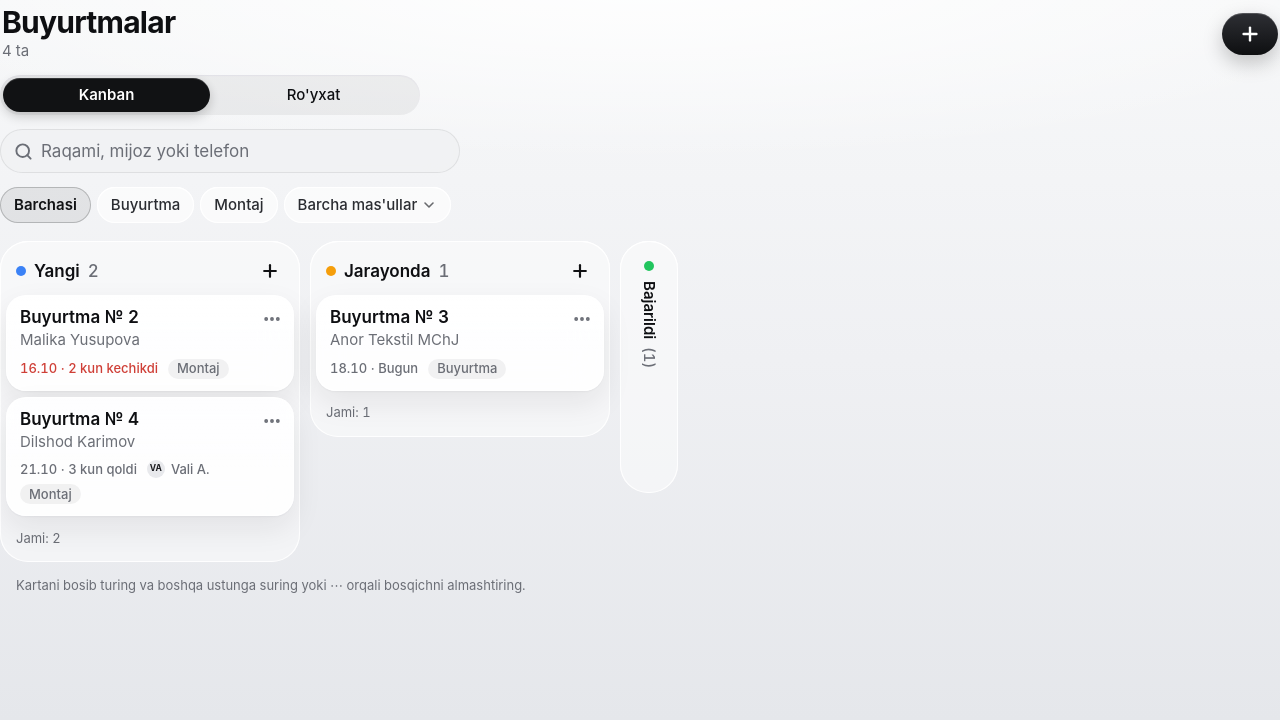
Test: the type chip, the search and the assignee narrow every column
This screenshot has width=1280, height=720.
Click the radio button labelled "Montaj": (239, 205) [200,187,278,223]
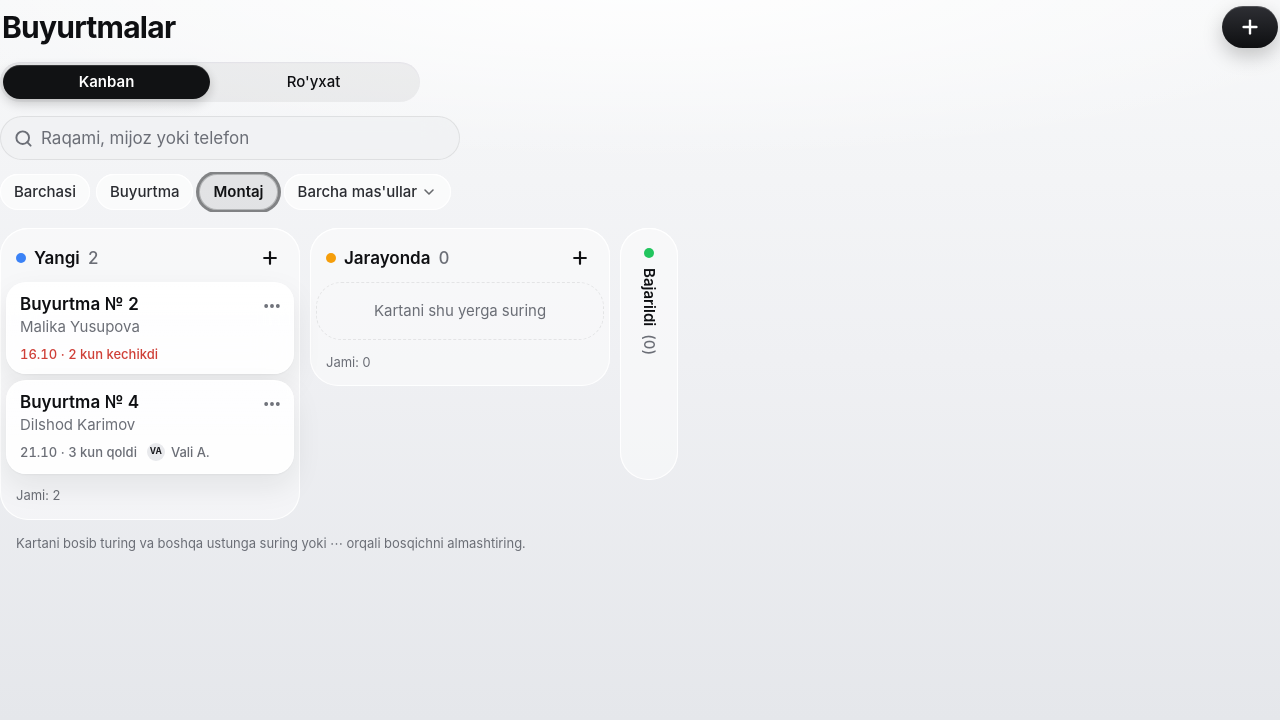
Result: the text "Kartani shu yerga suring" is shown at [316,282,604,340]
Result: the text "4 ta" is gone
Click the radio button labelled "Barchasi": (45, 192) [0,174,90,210]
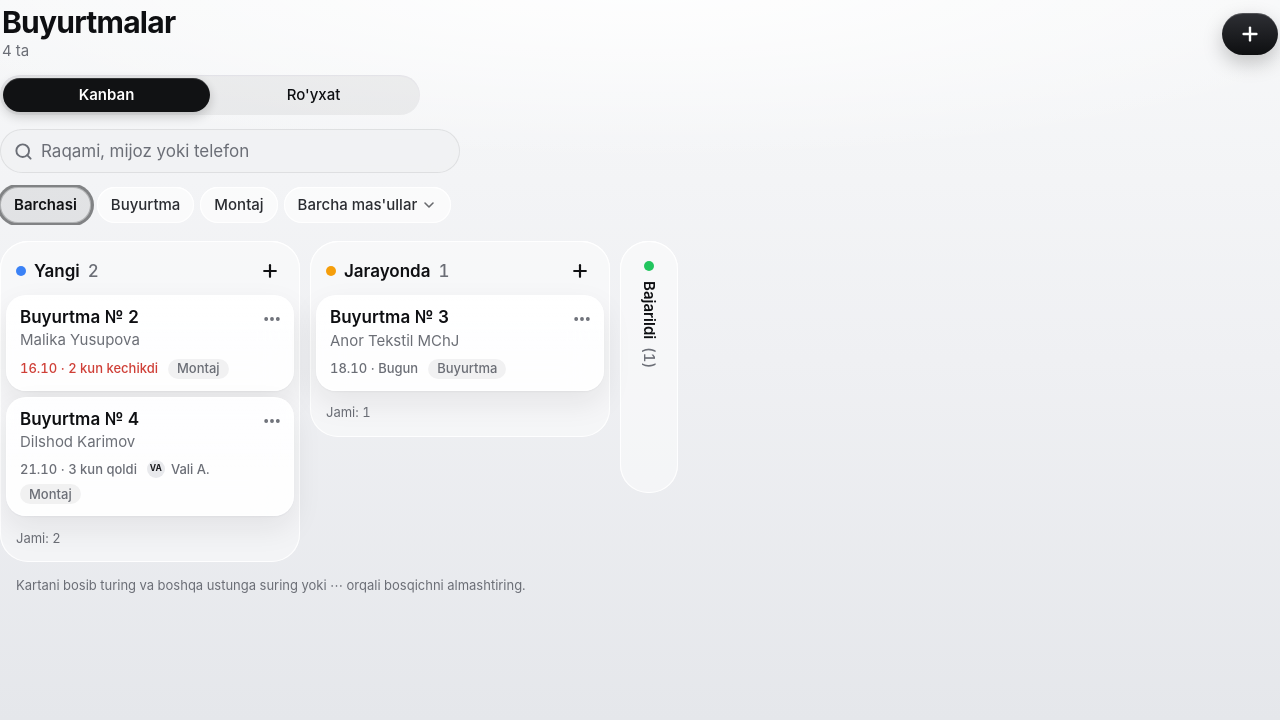
In the search field named "Qidirish": (244, 151) [41,129,446,173], type "anor"
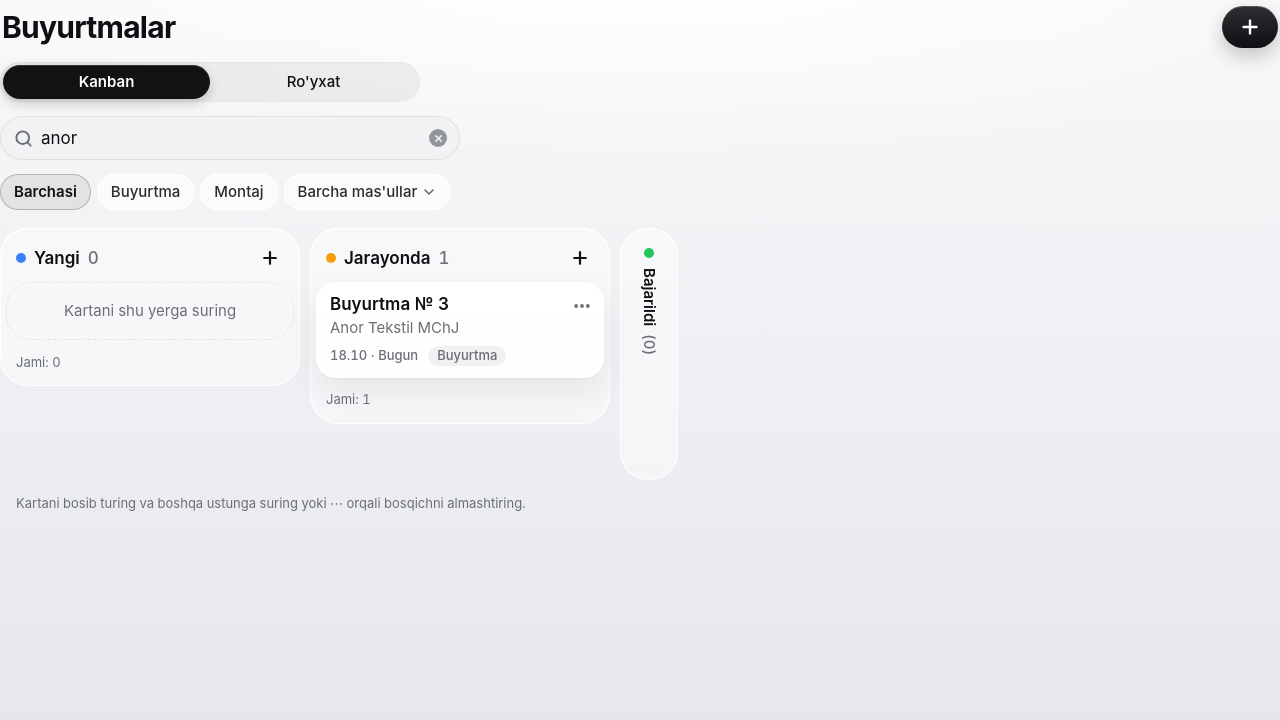
Clear the search field named "Qidirish": (228, 138) [41,116,414,160]
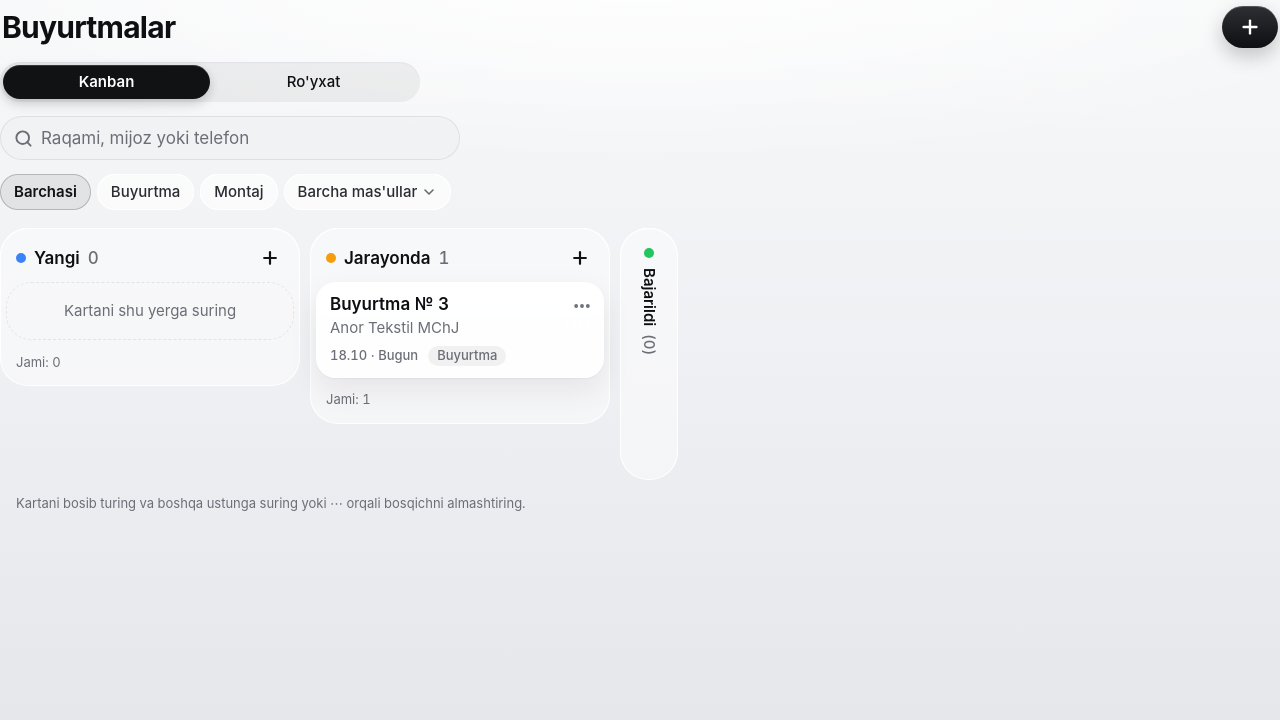
Click the button "Barcha mas'ullar": (367, 192) [284,174,451,210]
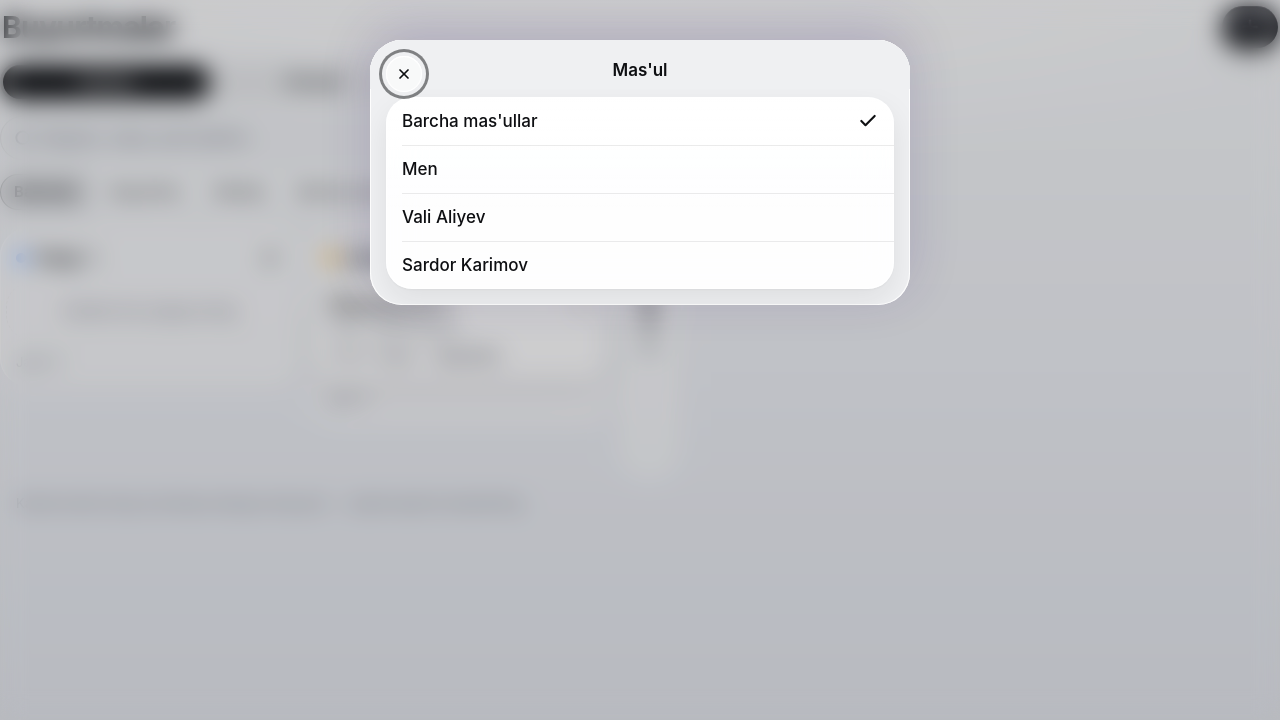
Click the option "Vali Aliyev": (444, 217) [402,207,485,227]
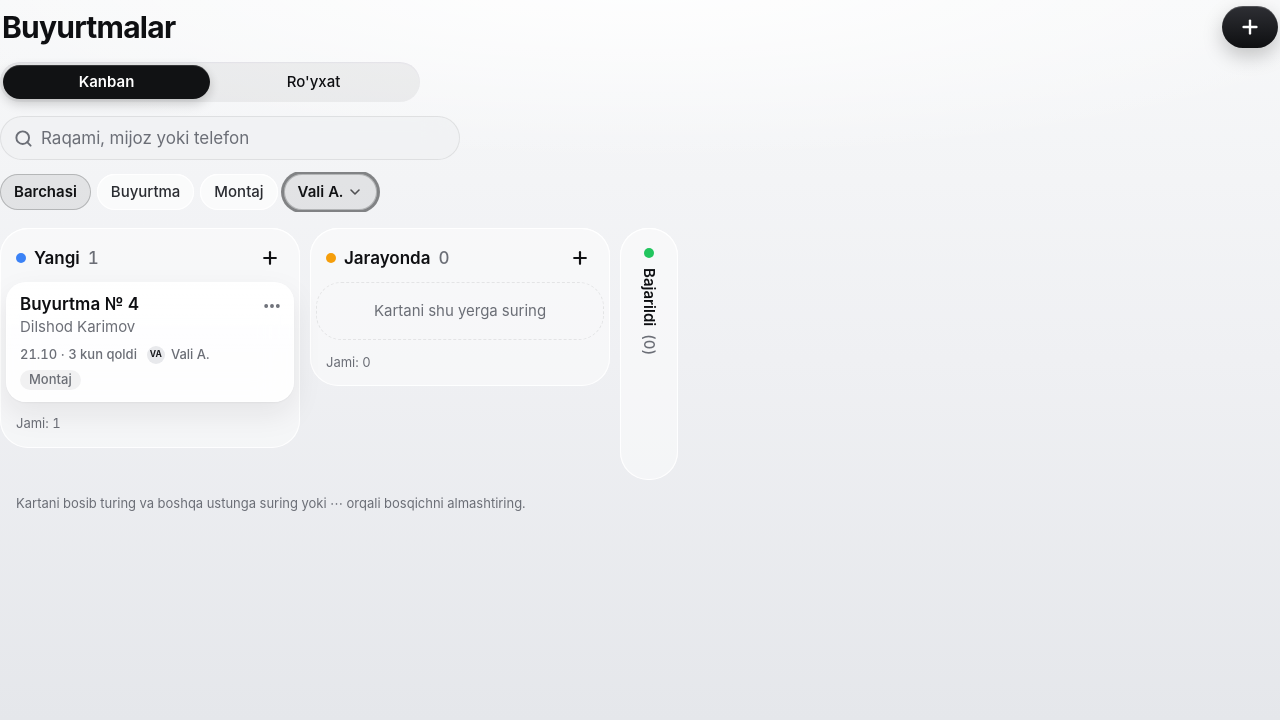
Result: the list "Buyurtma № 3 Anor Tekstil MChJ 18.10 · Bugun Buyurtma" is gone
